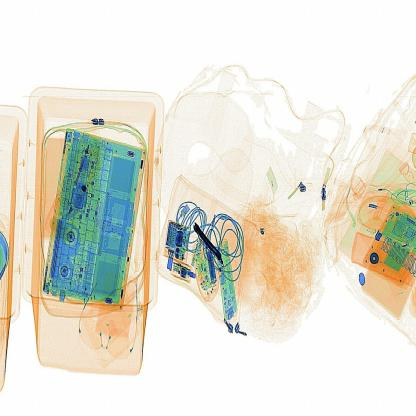knife: (186, 211, 233, 278)
